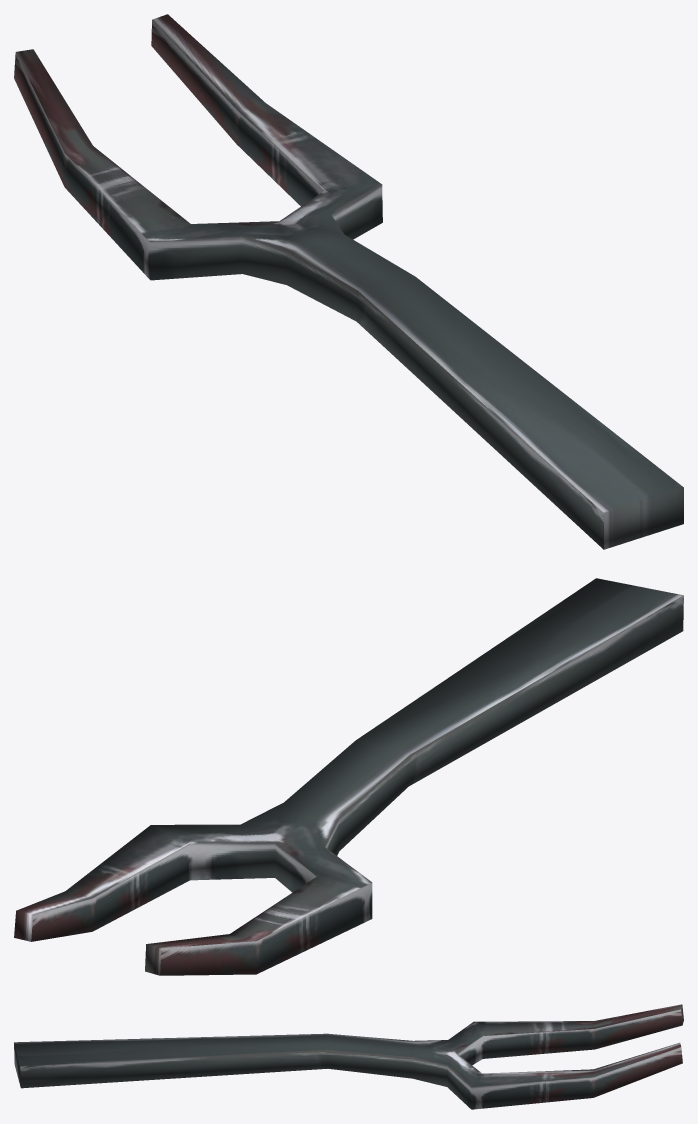
Rendered from Fork_01.glb.
The picture shows the model from 3 angles, top to bottom: view 1: azimuth 30°, elevation 25°; view 2: azimuth 150°, elevation 25°; view 3: azimuth 270°, elevation 25°; orthographic projection. The views are drawn at different scales.
Visible parts, largest first — view 1: Fork_01; view 2: Fork_01; view 3: Fork_01.
Boxes of the visible parts, bbox=[...] form: Fork_01: bbox=[14, 14, 683, 549]; Fork_01: bbox=[14, 578, 683, 975]; Fork_01: bbox=[14, 1004, 683, 1109].
Bounding box in the file's own units: 0.2636 × 0.0997 × 1.12.
1 material, 1 textured.
